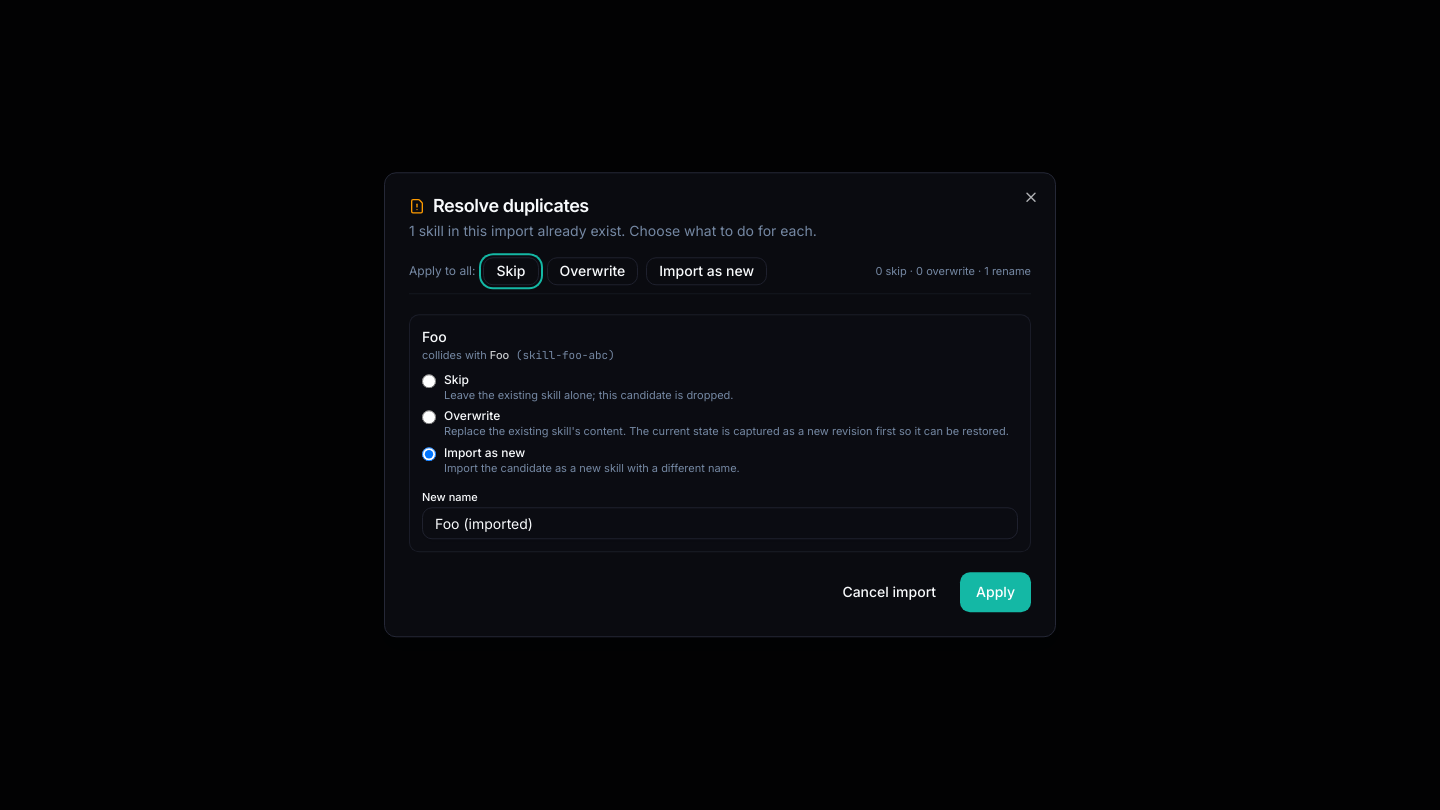
Scenario: ImportConflictDialog — Apply validation › clears the validation error as soon as the user types
This screenshot has width=1440, height=810.
Clear the field with test id "import-conflict-cand-1-rename-input" at coordinates (720, 524), box [422,508,1018,540]
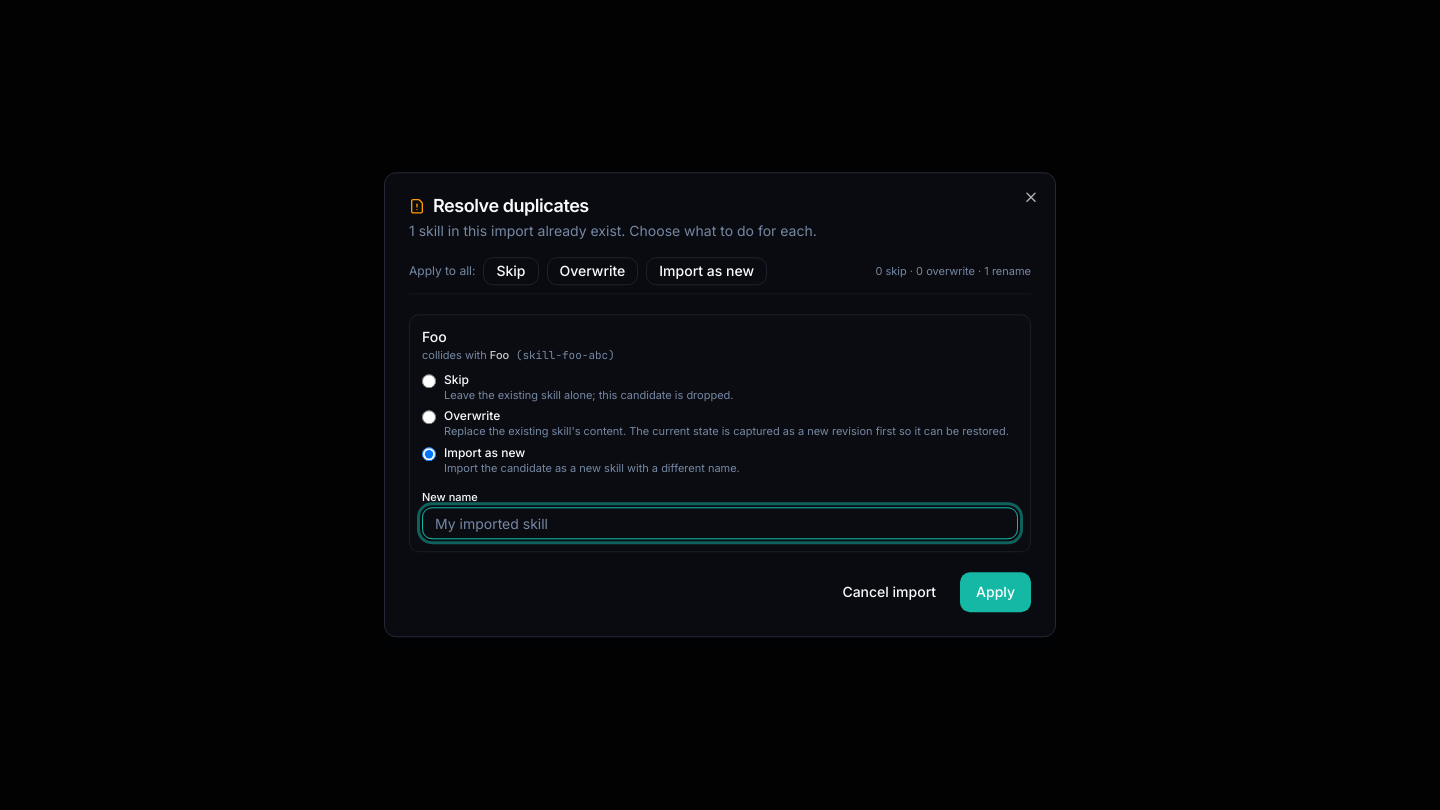
Click the button with test id "import-conflicts-apply".
click(996, 593)  # box [960,573,1031,613]
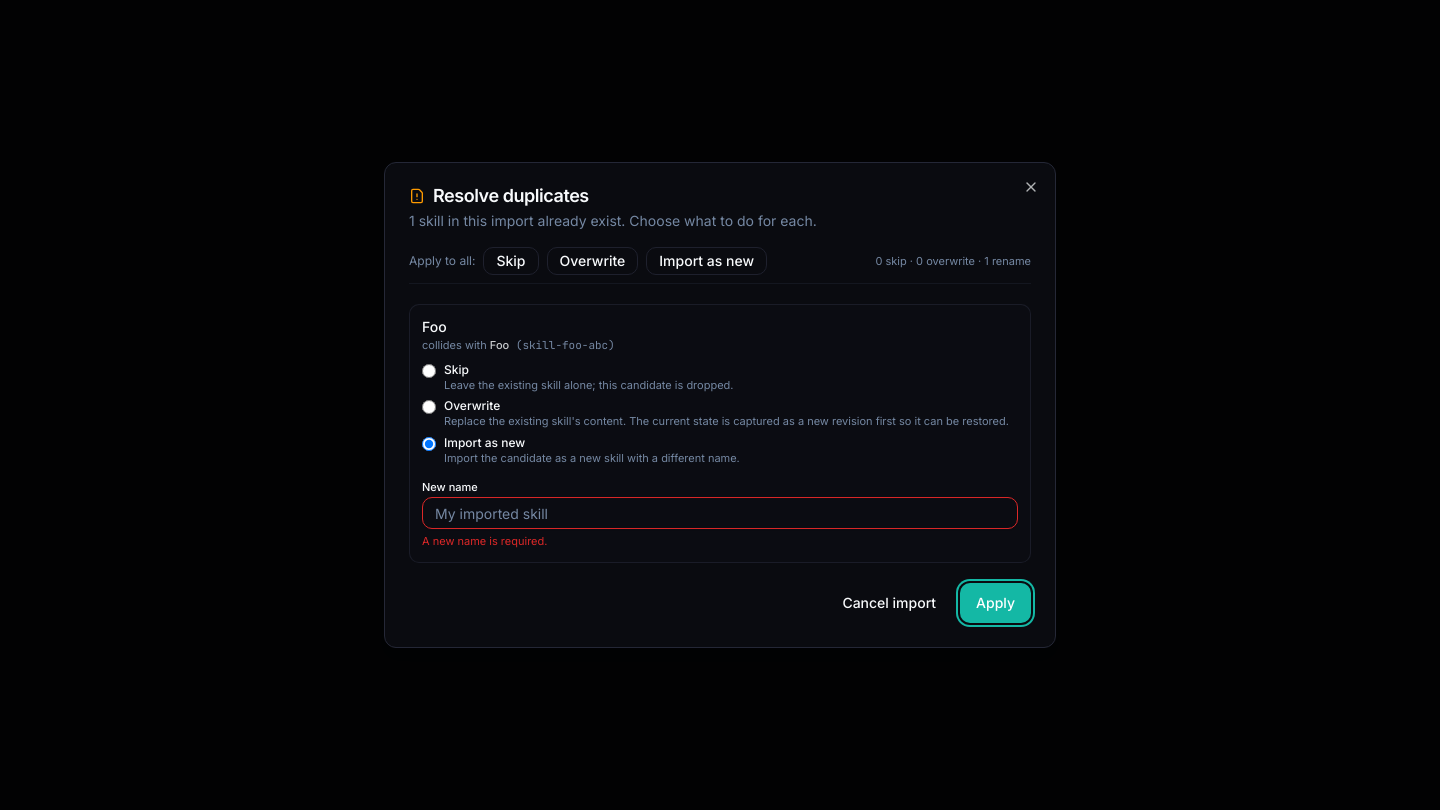
Expected: the text "A new name is required." is shown, [422,534,547,548]
Type "Foo Imported" into the field with test id "import-conflict-cand-1-rename-input".
click(720, 514); type("Foo Imported")  # box [422,498,1018,530]
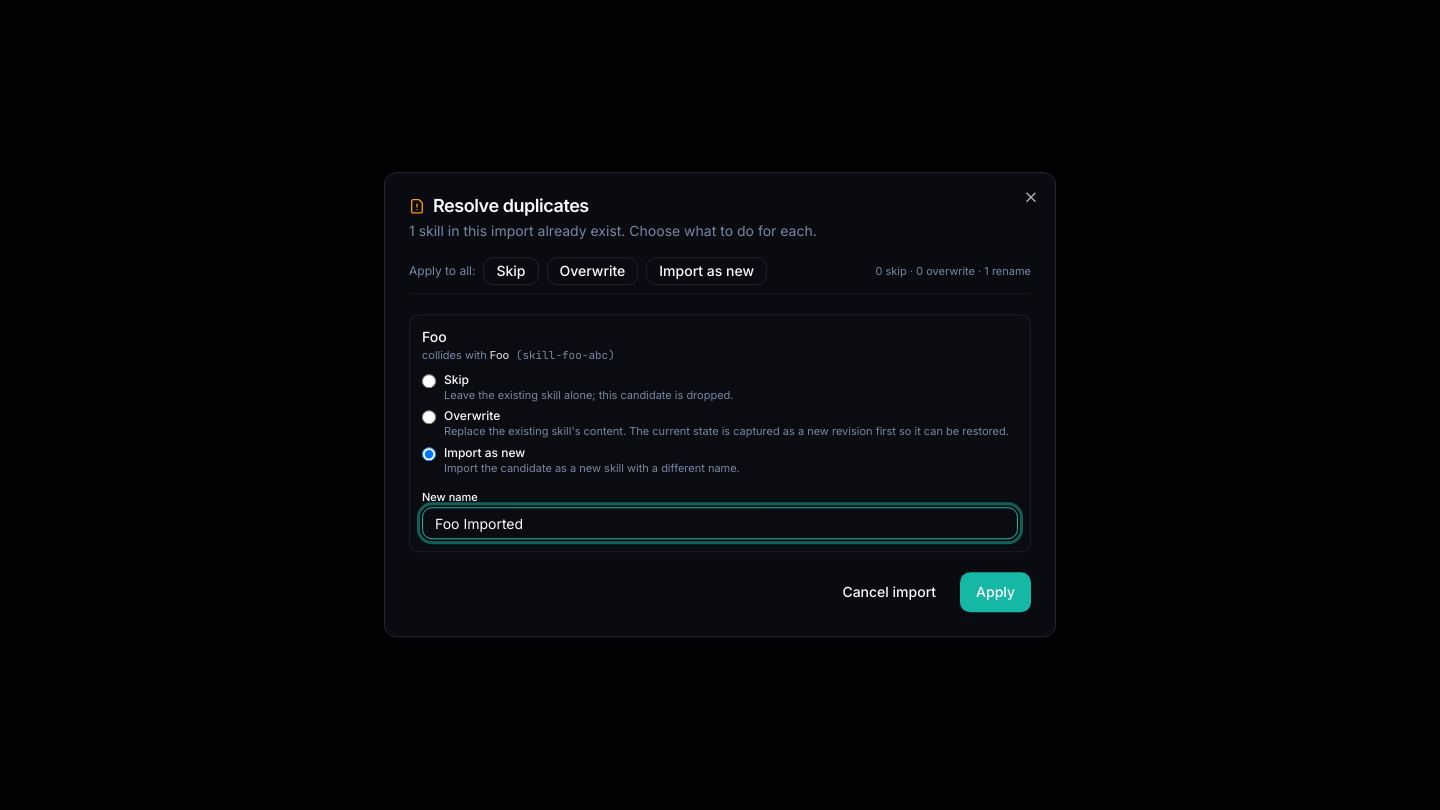
Expected: the text "A new name is required" is gone
